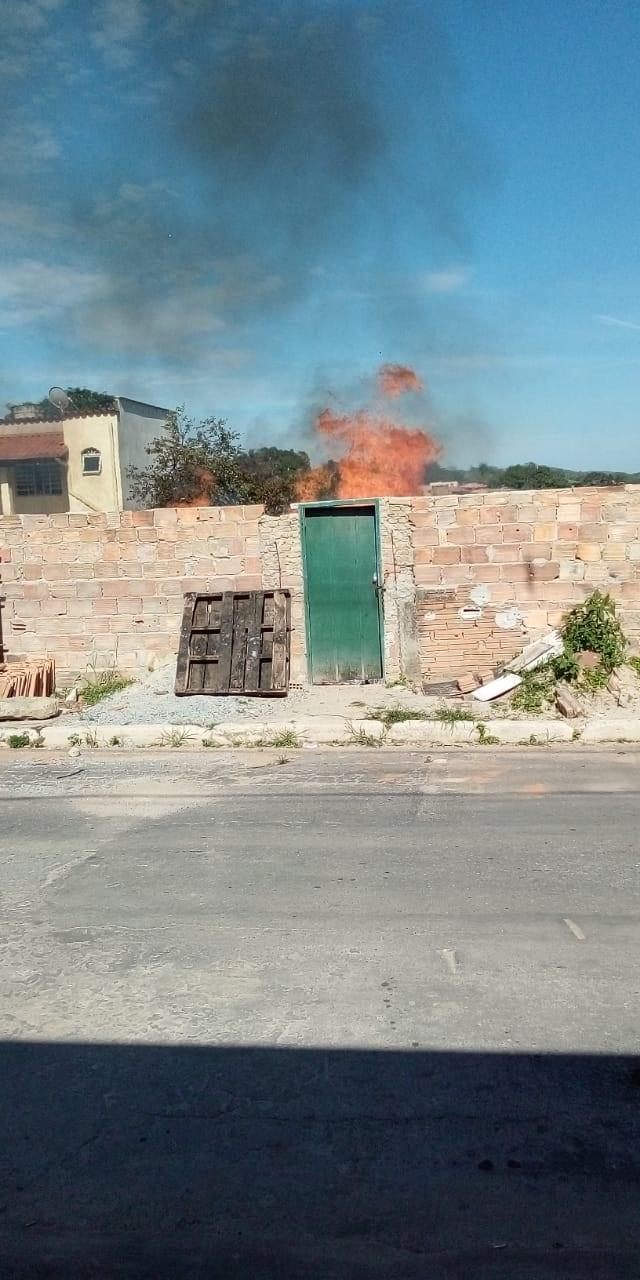fire: (288, 369, 438, 508), (161, 464, 220, 510)
